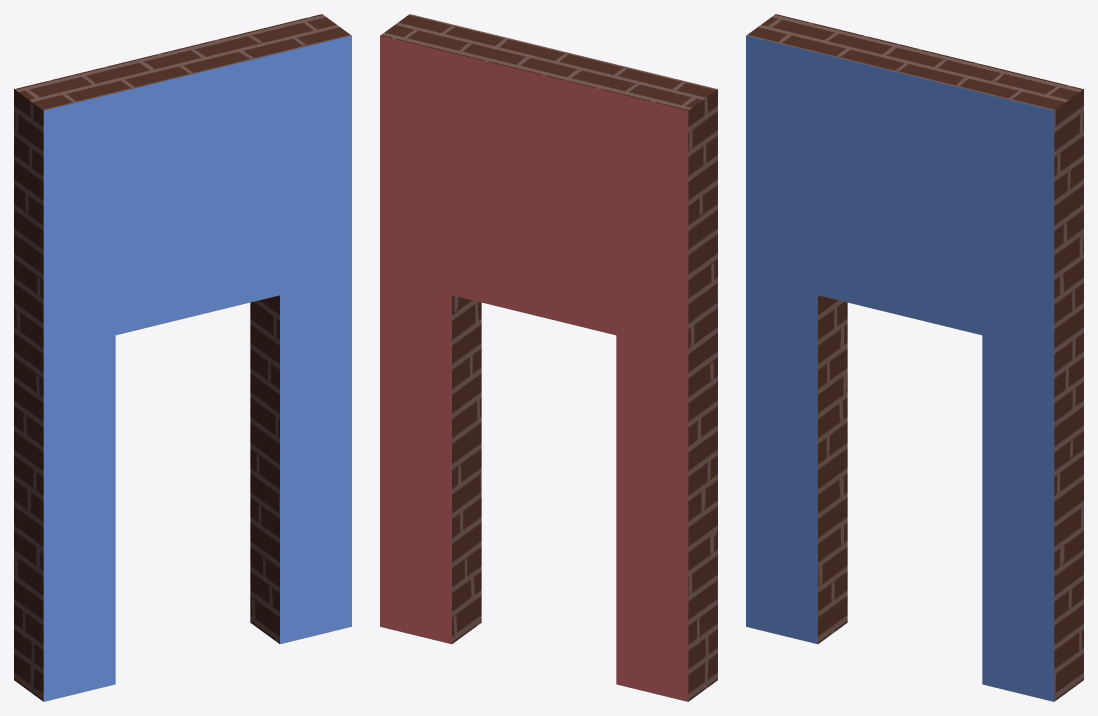
Rendered from wall1_3x5.5.fbx.
The picture shows the model from 3 angles, left to right: view 1: azimuth 30°, elevation 25°; view 2: azimuth 150°, elevation 25°; view 3: azimuth 330°, elevation 25°; orthographic projection.
Parts seen in each view (by area): view 1: wall1_3x5.5; view 2: wall1_3x5.5; view 3: wall1_3x5.5.
Part boxes in pixels (box(x1,y1,x2,y2)): wall1_3x5.5: box(14, 14, 351, 701); wall1_3x5.5: box(380, 14, 717, 701); wall1_3x5.5: box(746, 14, 1083, 701).
Size of the model in its own units: 300 by 550 by 50.
3 materials, 1 textured.
